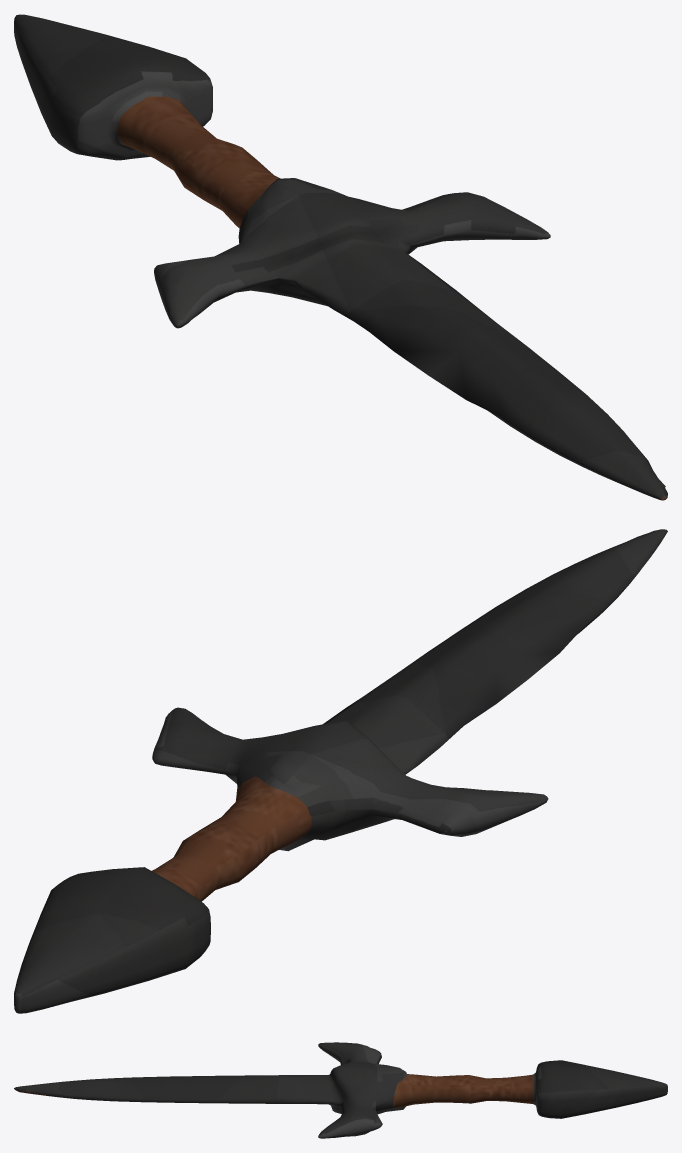
The model's file is Obsidian_Defender.fbx.
The picture shows the model from 3 angles, top to bottom: view 1: azimuth 30°, elevation 25°; view 2: azimuth 150°, elevation 25°; view 3: azimuth 270°, elevation 25°; orthographic projection. The views are drawn at different scales.
Parts seen in each view (by area): view 1: Mesh0; view 2: Mesh0; view 3: Mesh0.
Part boxes in pixels (x1=…): Mesh0: x1=14, y1=14, x2=667, y2=500; Mesh0: x1=14, y1=529, x2=667, y2=1013; Mesh0: x1=14, y1=1042, x2=667, y2=1138.
Size of the model in its own units: 63.53 by 15.02 by 190.
